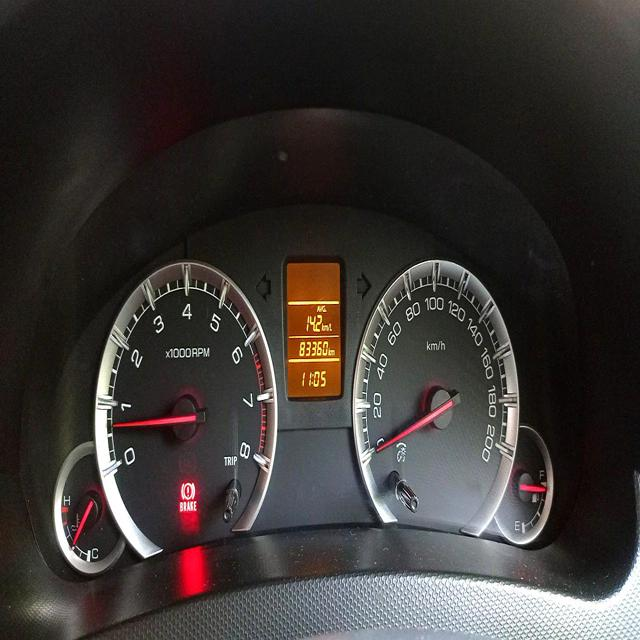odometer: (297, 337, 329, 359)
